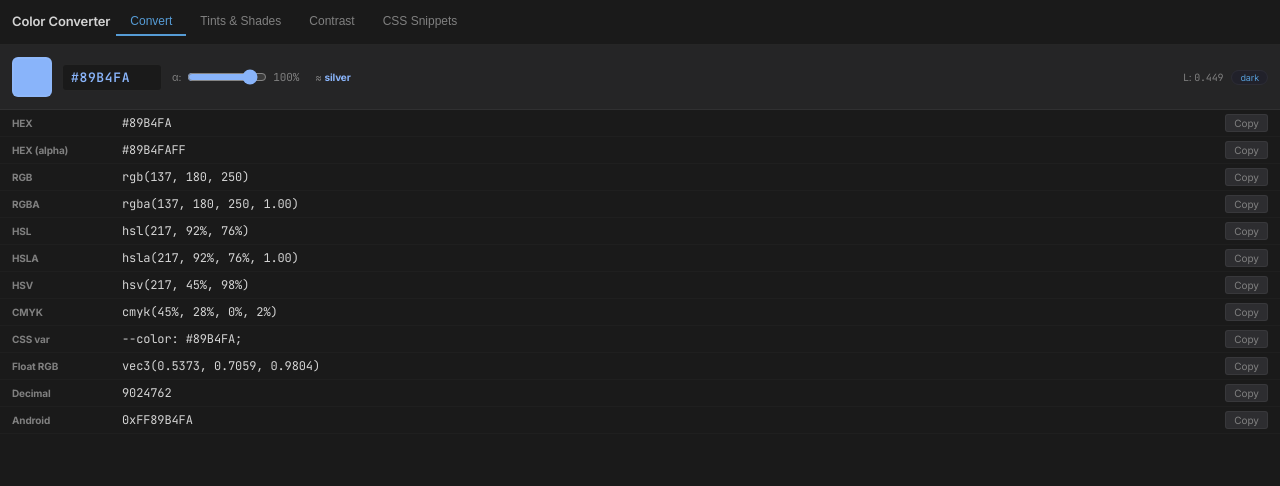
it: ColorConverterPanel › shows WCAG contrast ratios against white, black, and a custom background
What coordinates should you click on to do the following:
click the button "Contrast"
I would click on:
 (332, 22)
Its box is [295,8,369,36].
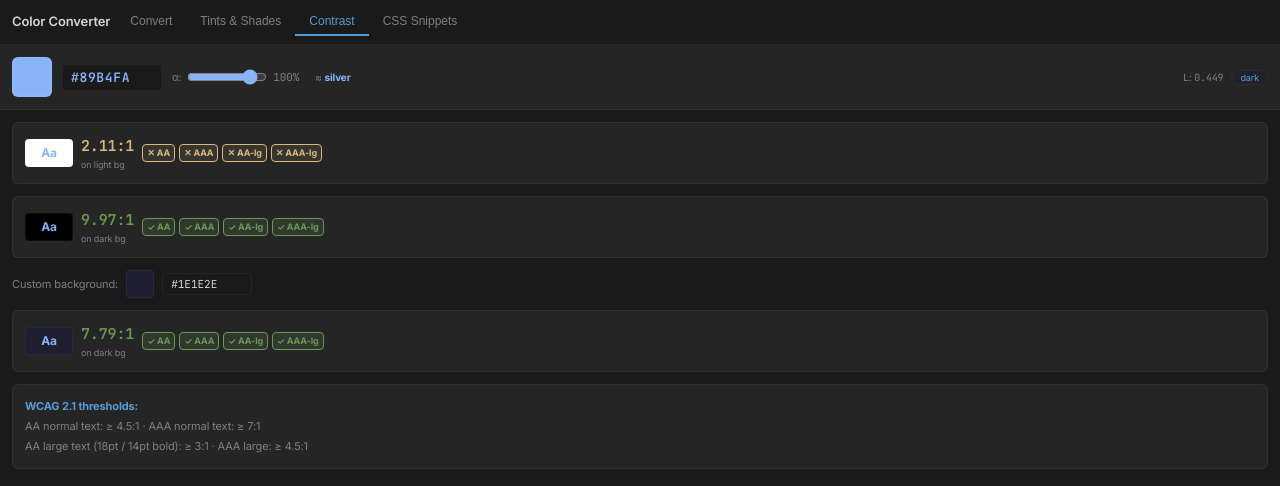
Expected: the text "2.11:1" is shown 3 times, [81,135,134,158]; [81,209,134,232]; [81,323,134,346]
Expected: the text "WCAG 2.1 thresholds:" is shown, [25,399,138,413]
Expected: the field named "Custom background color" holds "#1E1E2E", [162,273,252,295]
